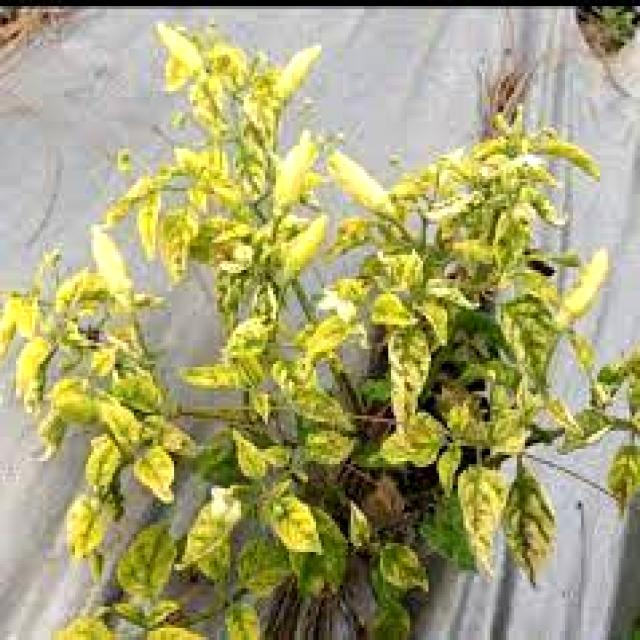yellowish leaf: (329, 113, 598, 417), (385, 285, 633, 579), (119, 27, 338, 297), (1, 248, 162, 466), (59, 484, 264, 640), (174, 420, 339, 571), (184, 312, 354, 426)
